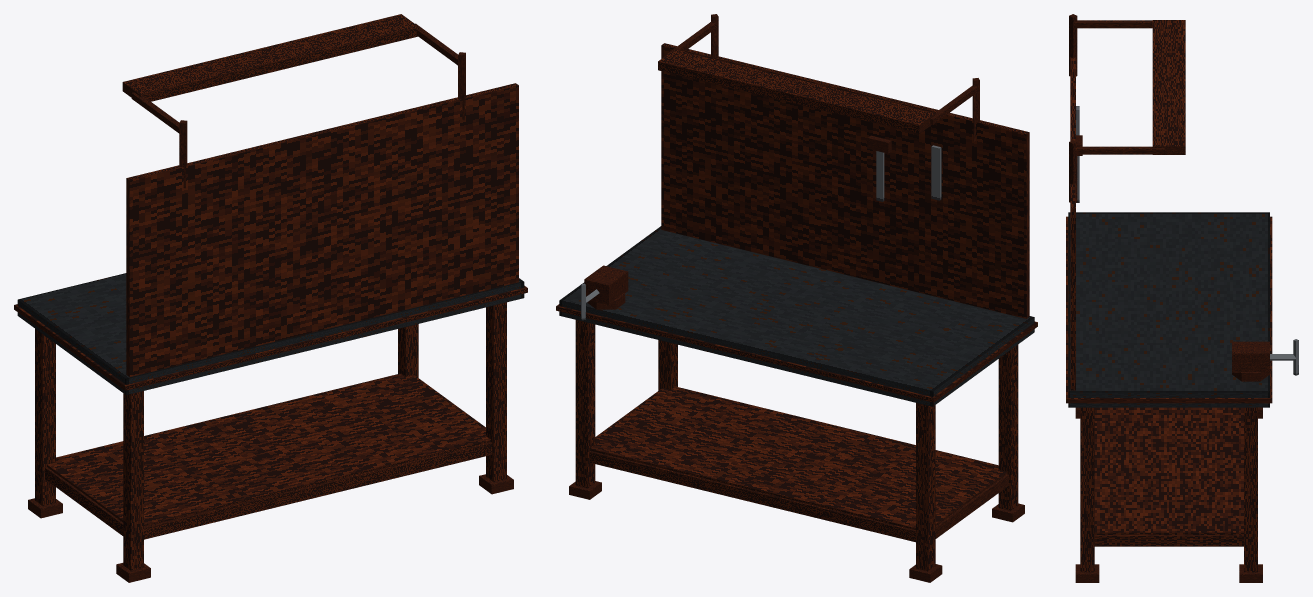
File: work_bench_derelict_decay.glb
The picture shows the model from 3 angles, left to right: view 1: azimuth 30°, elevation 25°; view 2: azimuth 150°, elevation 25°; view 3: azimuth 270°, elevation 25°; orthographic projection. The views are drawn at different scales.
Visible parts, largest first — view 1: work_bench_derelict_decay; view 2: work_bench_derelict_decay; view 3: work_bench_derelict_decay.
Boxes of the visible parts, bbox=[...] form: work_bench_derelict_decay: bbox=[14, 14, 527, 582]; work_bench_derelict_decay: bbox=[556, 14, 1037, 582]; work_bench_derelict_decay: bbox=[1066, 14, 1298, 582].
Bounding box in the file's own units: 1.82 × 1.94 × 0.982.
Materials: 5 (5 with a texture image).
